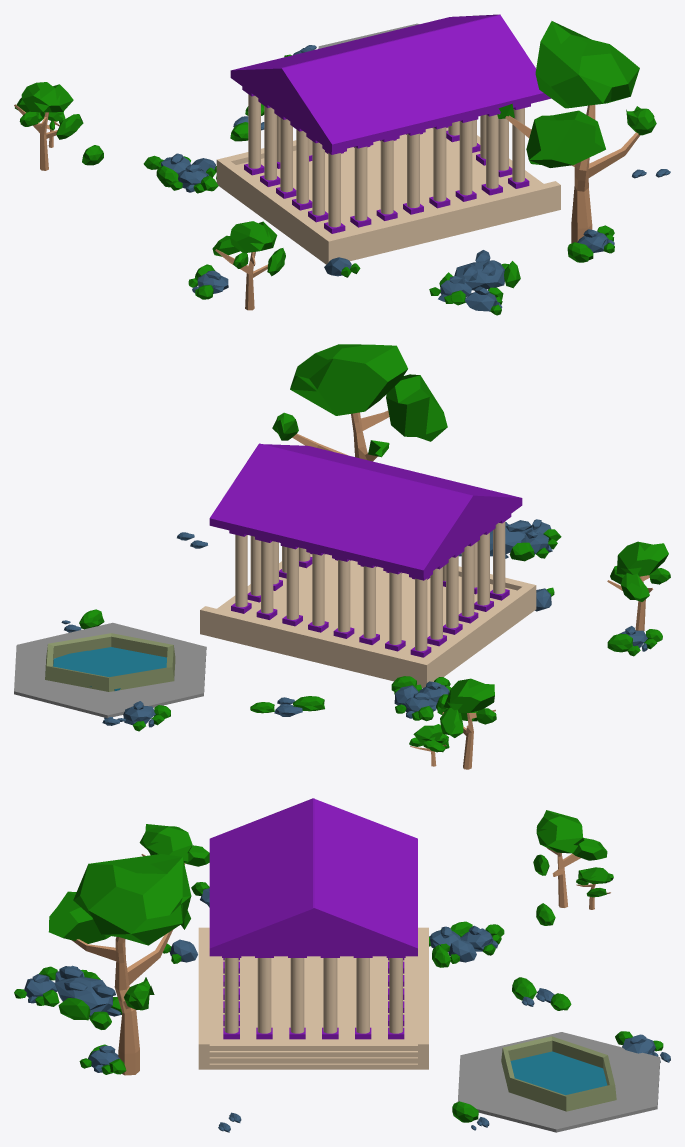
Rendered from Temple vigne.fbx.
The picture shows the model from 3 angles, top to bottom: view 1: azimuth 30°, elevation 25°; view 2: azimuth 150°, elevation 25°; view 3: azimuth 270°, elevation 25°; orthographic projection. The views are drawn at different scales.
Parts seen in each view (by area): view 1: Cube.063, Icokugel.011, Icokugel.012, Icokugel.028, Icokugel.010, Icokugel.005, Zylinder, Icokugel.024, Icokugel.007, Icokugel.023, Icokugel, Icokugel.003 (+1 smaller); view 2: Cube.063, Cylindre.003, Icokugel.011, Cylindre.004, Icokugel.012, Icokugel.010, Icokugel.005, Icokugel.028, Cylindre.006, Zylinder, Cylindre.005, Icokugel.009 (+3 smaller); view 3: Cube.063, Cylindre.003, Icokugel.011, Icokugel.028, Cylindre.004, Zylinder, Icokugel.005, Icokugel.010, Icokugel.012, Cylindre.005, Cylindre.006, Icokugel.003 (+6 smaller).
Part boxes in pixels (bbox=[...]): Cube.063: bbox=[216, 14, 560, 264]; Icokugel.011: bbox=[535, 21, 639, 108]; Icokugel.012: bbox=[526, 110, 605, 167]; Icokugel.028: bbox=[429, 250, 520, 315]; Icokugel.010: bbox=[212, 221, 285, 310]; Icokugel.005: bbox=[14, 82, 83, 170]; Zylinder: bbox=[505, 105, 639, 243]; Icokugel.024: bbox=[170, 164, 218, 193]; Icokugel.007: bbox=[188, 270, 228, 299]; Icokugel.023: bbox=[577, 225, 614, 253]; Icokugel: bbox=[626, 106, 656, 135]; Icokugel.003: bbox=[143, 153, 190, 173]; Cube.063: bbox=[200, 443, 536, 688]; Cylindre.003: bbox=[14, 622, 206, 718]; Icokugel.011: bbox=[290, 344, 407, 415]; Cylindre.004: bbox=[45, 633, 175, 691]; Icokugel.012: bbox=[386, 374, 447, 441]; Icokugel.010: bbox=[607, 541, 670, 630]; Icokugel.005: bbox=[440, 678, 496, 769]; Icokugel.028: bbox=[458, 519, 561, 561]; Cylindre.006: bbox=[53, 650, 124, 686]; Zylinder: bbox=[292, 410, 389, 461]; Cylindre.005: bbox=[89, 647, 166, 690]; Icokugel.009: bbox=[123, 701, 170, 731]; Cube.063: bbox=[198, 798, 428, 1069]; Cylindre.003: bbox=[457, 1032, 660, 1132]; Icokugel.011: bbox=[73, 854, 191, 945]; Icokugel.028: bbox=[14, 965, 122, 1029]; Cylindre.004: bbox=[501, 1036, 616, 1111]; Zylinder: bbox=[72, 930, 172, 1075]; Icokugel.005: bbox=[533, 810, 607, 907]; Icokugel.010: bbox=[139, 824, 209, 866]; Icokugel.012: bbox=[48, 891, 110, 943]; Cylindre.005: bbox=[510, 1051, 604, 1083]; Cylindre.006: bbox=[532, 1068, 607, 1095]; Icokugel.003: bbox=[460, 924, 504, 955].
Size of the model in its own units: 1267 by 513 by 1425.
